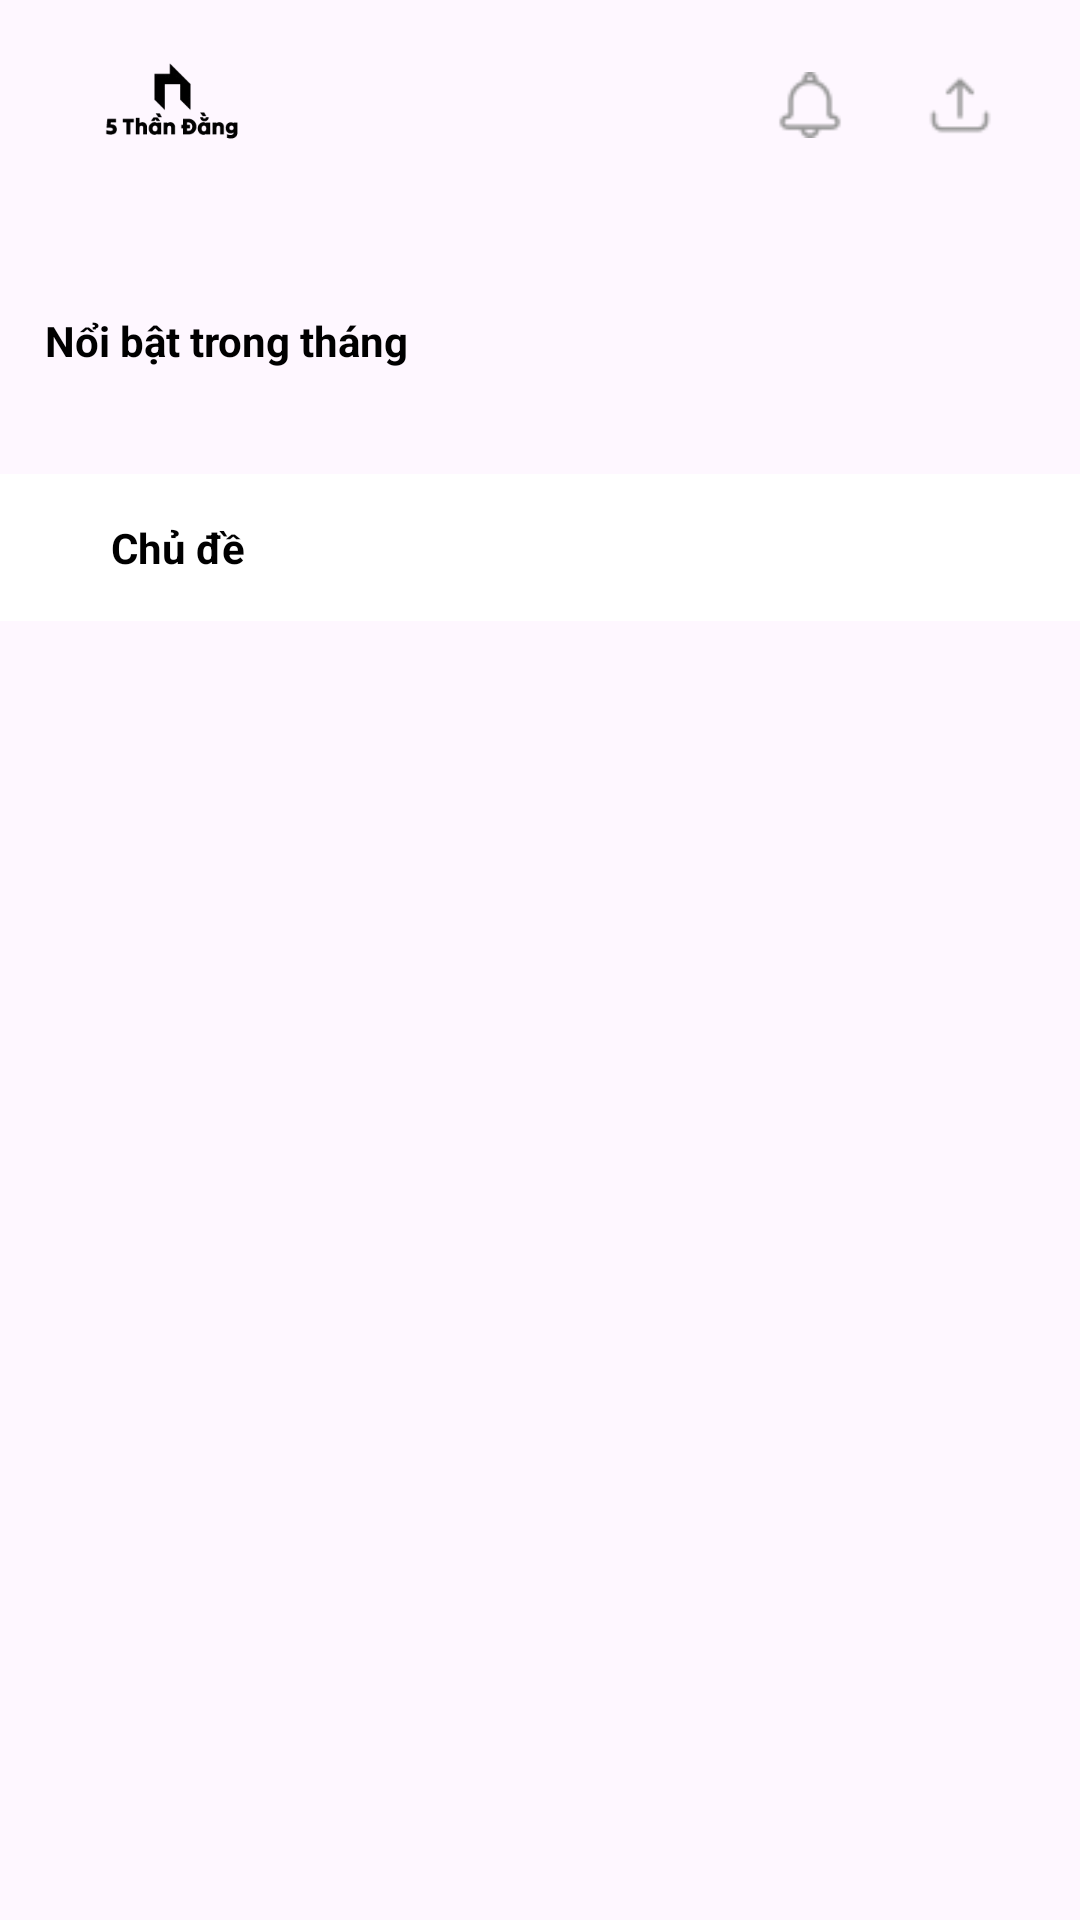

Where icons sit on this 1080 × 1920 app screen, as [left=x1, top=y1, right=x2, bottom=y2]:
notification: [left=779, top=72, right=841, bottom=138]
upload: [left=930, top=78, right=990, bottom=133]
